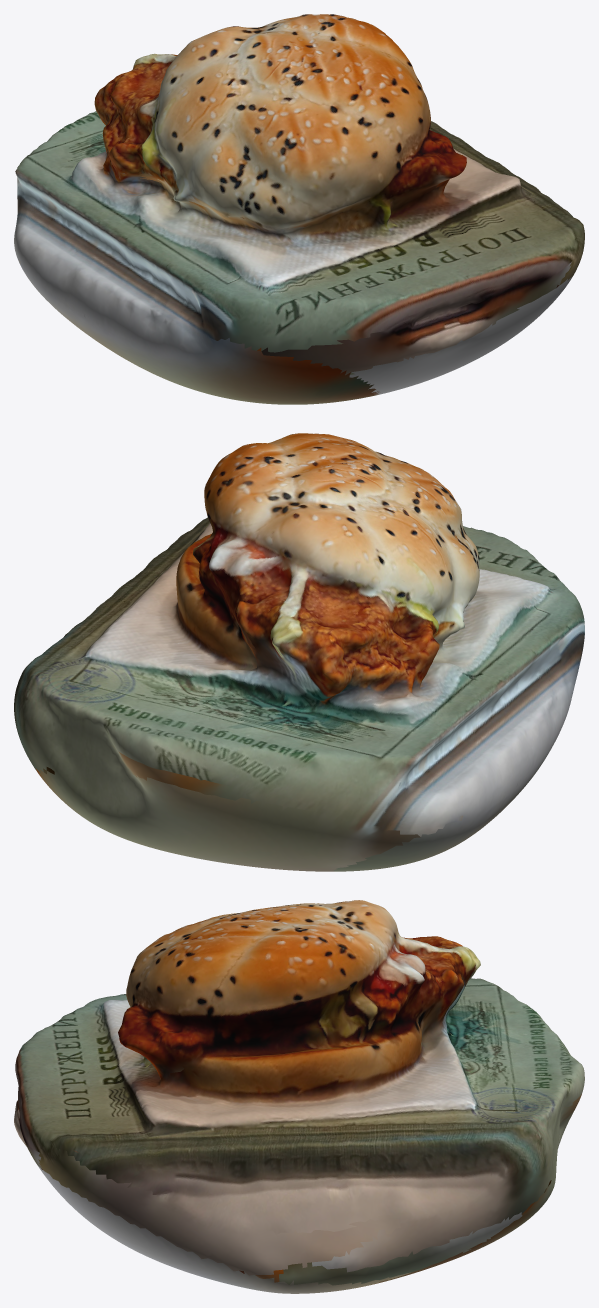
The model's file is food.glb.
3 views of the same model, one above another, from view 1: azimuth 30°, elevation 25°; view 2: azimuth 150°, elevation 25°; view 3: azimuth 270°, elevation 25° (orthographic). The views are drawn at different scales.
Parts seen in each view (by area): view 1: Object_2; view 2: Object_2; view 3: Object_2.
Boxes of the visible parts, bbox=[...] form: Object_2: bbox=[14, 14, 584, 404]; Object_2: bbox=[14, 433, 584, 871]; Object_2: bbox=[14, 900, 584, 1293].
Size of the model in its own units: 0.1631 by 0.1189 by 0.1968.
Materials: 1 (1 with a texture image).
